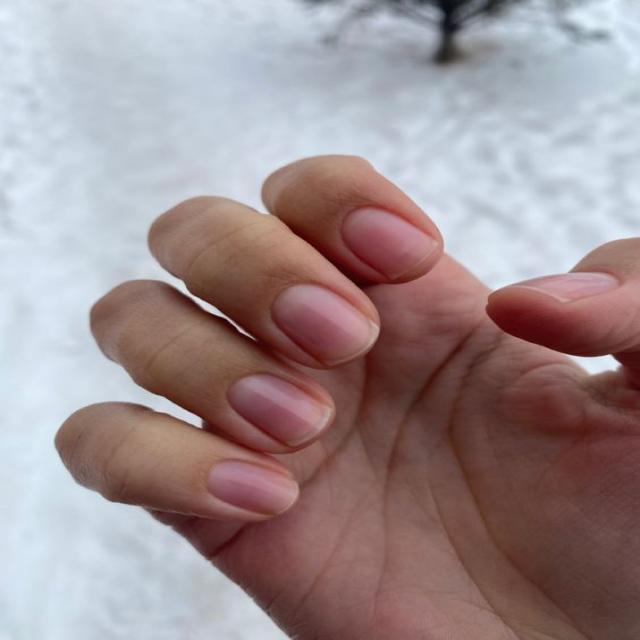Fingernail: (272, 283, 380, 367), (228, 373, 330, 448), (343, 206, 440, 281), (207, 460, 299, 516), (498, 271, 620, 304)
